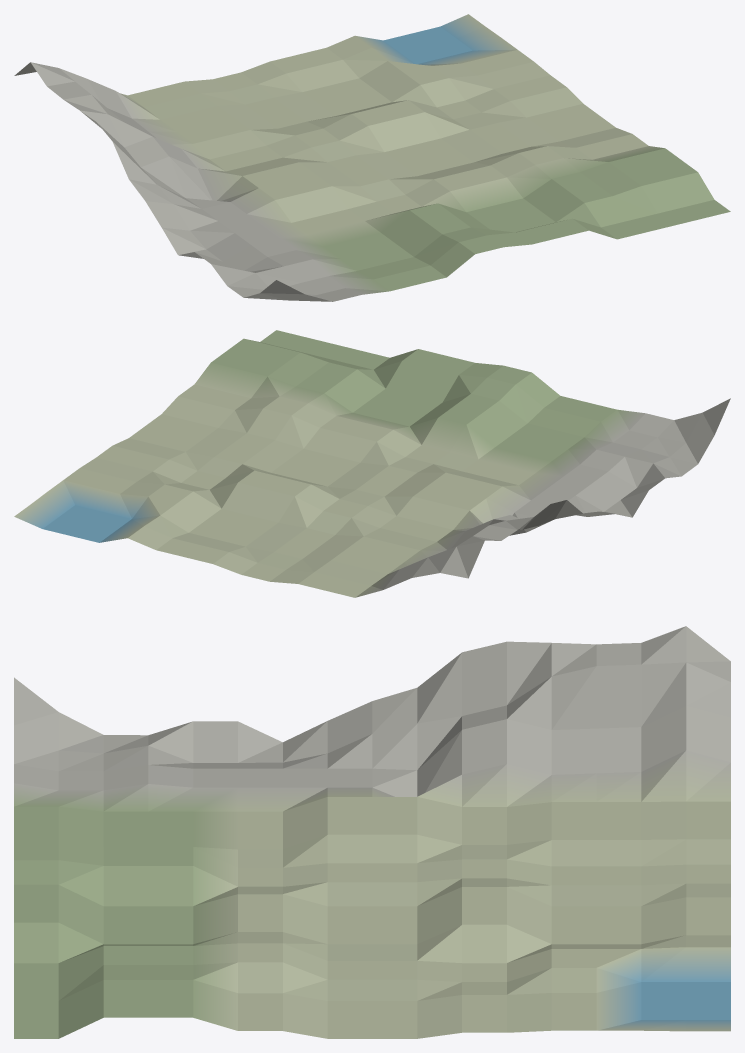
The picture shows the model from 3 angles, top to bottom: view 1: azimuth 30°, elevation 25°; view 2: azimuth 150°, elevation 25°; view 3: azimuth 270°, elevation 25°; orthographic projection. The views are drawn at different scales.
Bounding box in the file's own units: 32 × 6.06 × 32.
